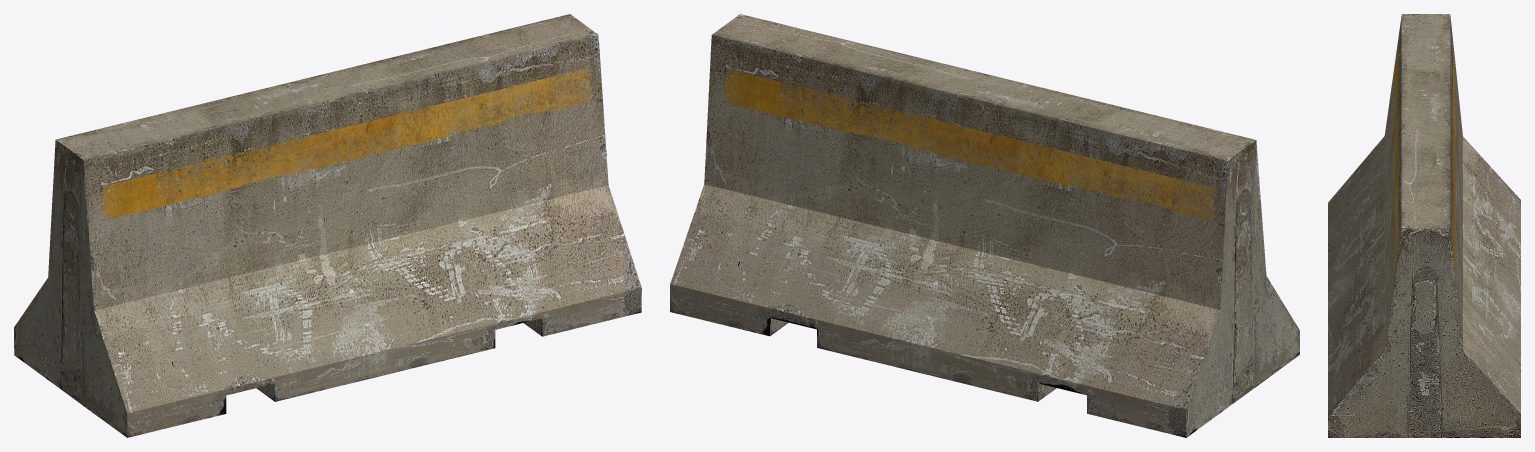
Rendered from Road_block_v1.FBX.
3 renders of one model, left to right at view 1: azimuth 30°, elevation 25°; view 2: azimuth 150°, elevation 25°; view 3: azimuth 270°, elevation 25°, orthographic. The views are drawn at different scales.
Parts seen in each view (by area): view 1: Road_block_v1; view 2: Road_block_v1; view 3: Road_block_v1.
Part boxes in pixels (box(x1,y1,x2,y2)): Road_block_v1: box(14, 14, 641, 437); Road_block_v1: box(670, 14, 1299, 437); Road_block_v1: box(1328, 14, 1520, 437).
Size of the model in its own units: 2.35 by 1.07 by 0.8942.
